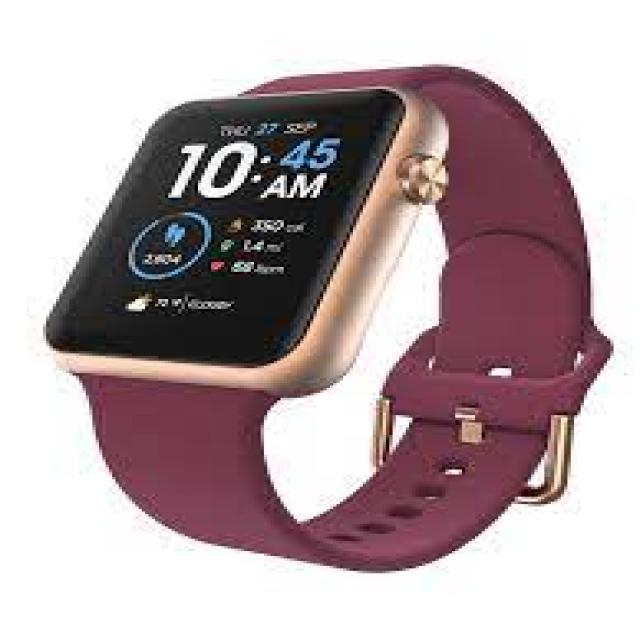objects: (46, 67, 610, 574)
